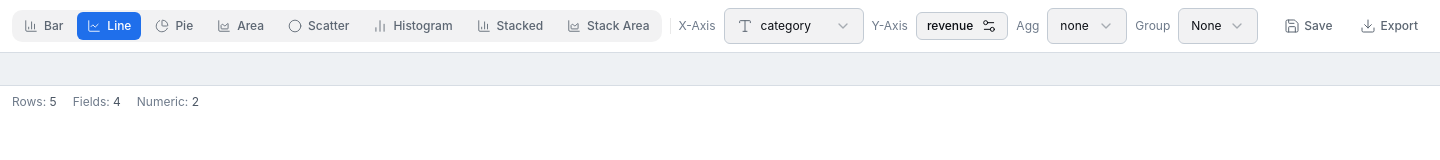
DataCharts › shows Buckets selector when histogram is active
The image size is (1440, 160).
Click the button "Histogram" at (413, 26), box [363,12,462,40]
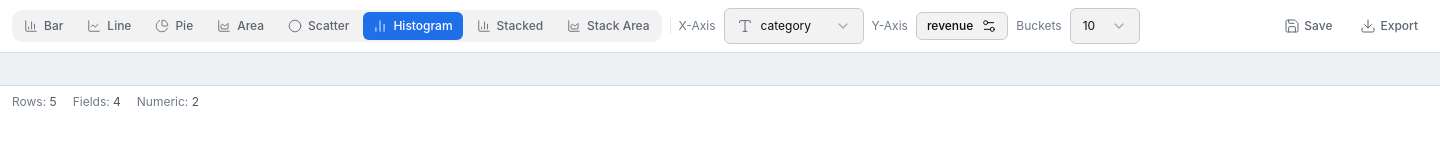
Result: the text "Buckets" is shown at [1016,18,1062,34]
